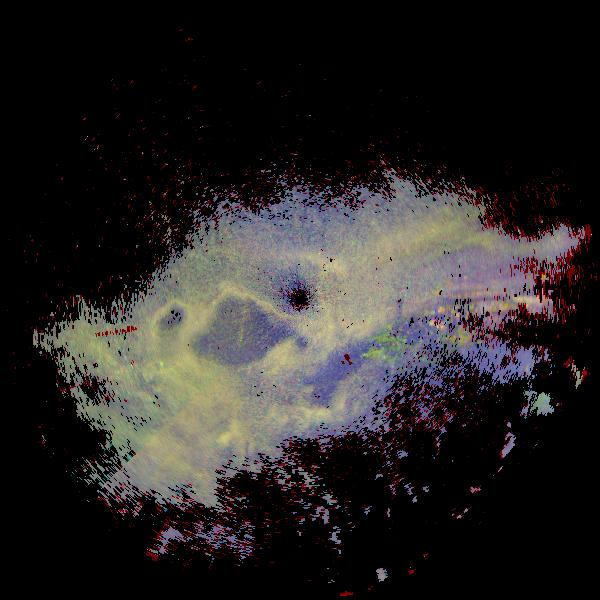roost: (159, 361, 168, 370)
